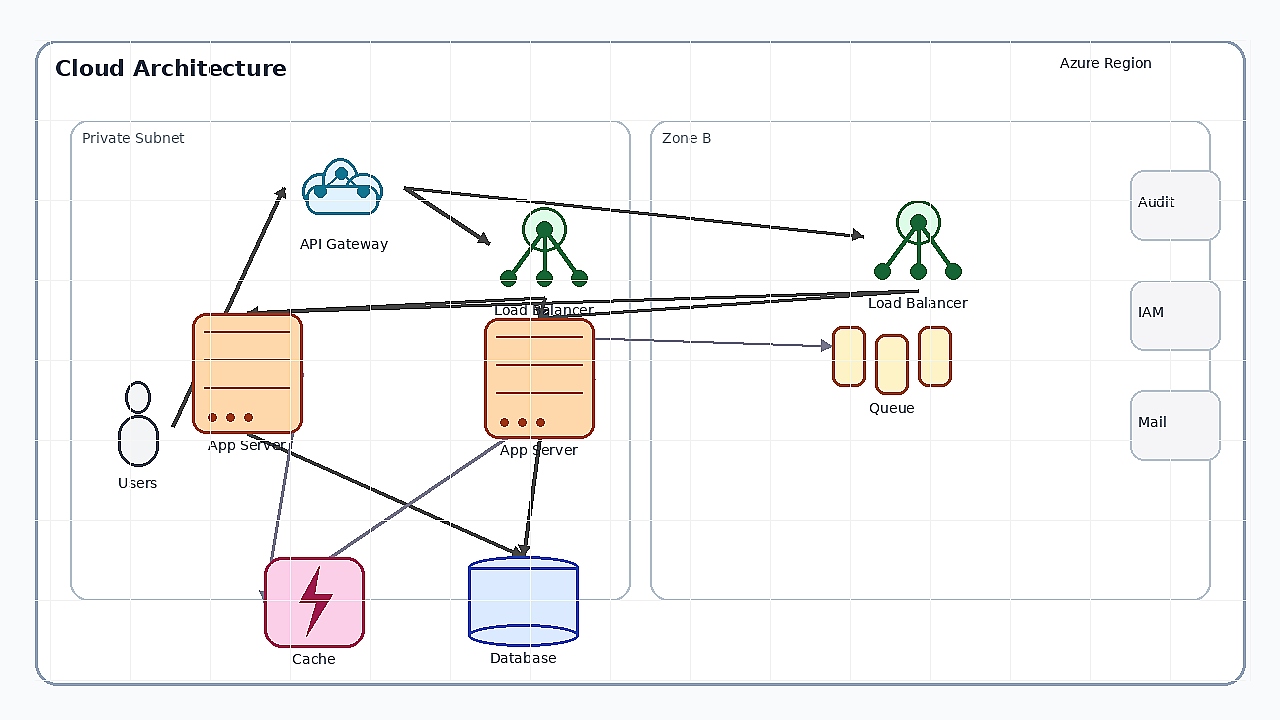API Gateway: (284, 142, 404, 232)
Application Server: (192, 313, 302, 433), (484, 318, 594, 438)
Cache: (264, 557, 364, 647)
Database: (468, 556, 578, 646)
Load Balancer: (489, 188, 599, 298), (863, 181, 973, 291)
Message Queue: (832, 326, 952, 396)
User: (103, 381, 173, 471)
